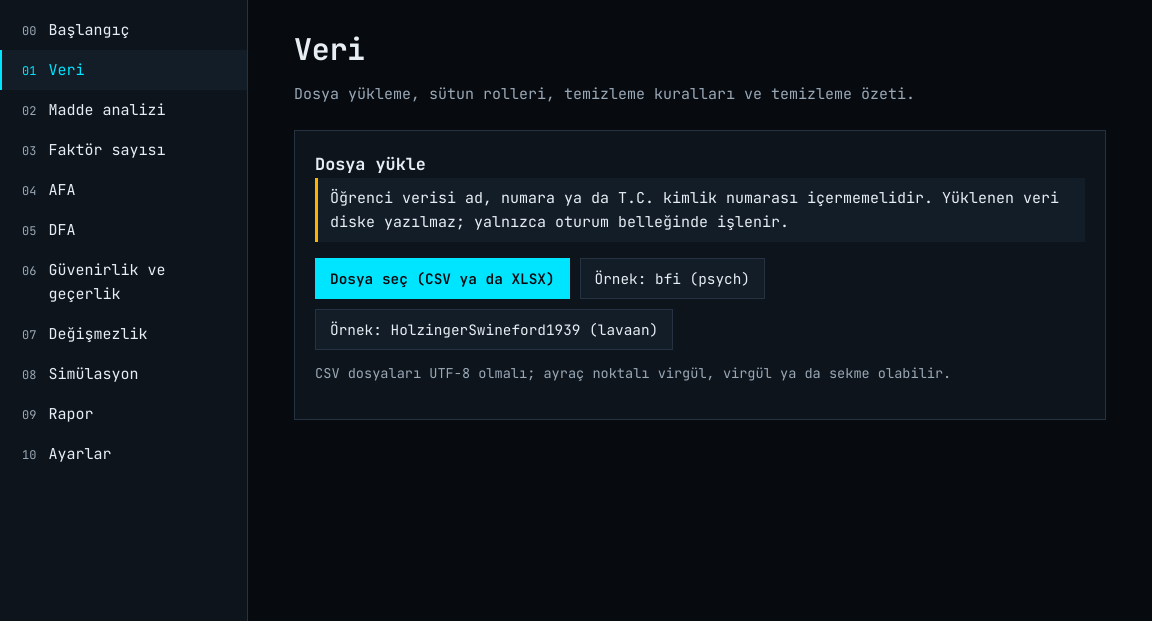
Test case: M5 AFA sayfası › ayarlar sayı olarak gönderilir; yük tablosu R metinlerini gösterir
The width and height of the screenshot is (1152, 621).
Click the button "Örnek: bfi (psych)" at (672, 278), box [580, 258, 765, 299]
(page scrolled)
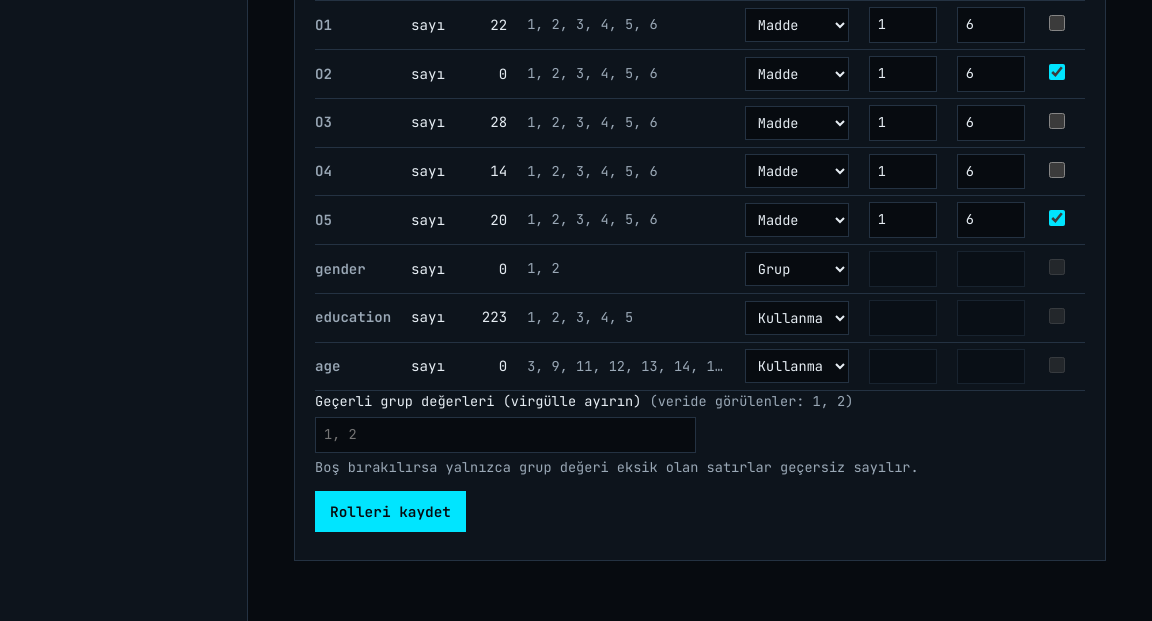
Click the button "Rolleri kaydet" at (391, 511), box [315, 491, 466, 532]
(page scrolled)
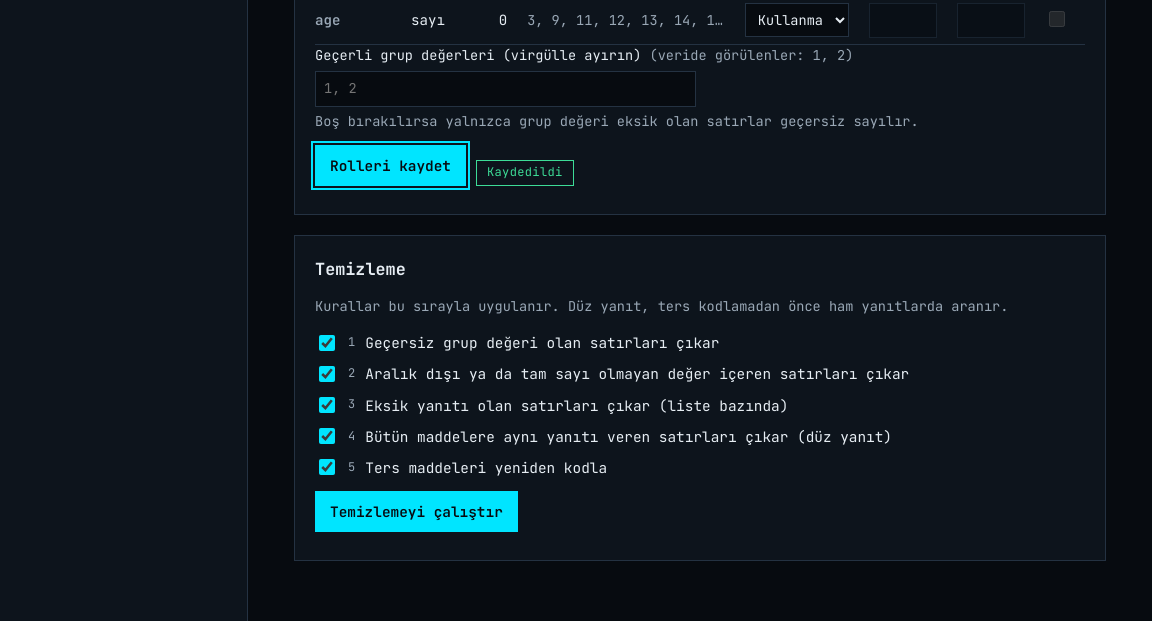
Click the button "Temizlemeyi çalıştır" at (416, 511), box [315, 491, 518, 532]
(page scrolled)
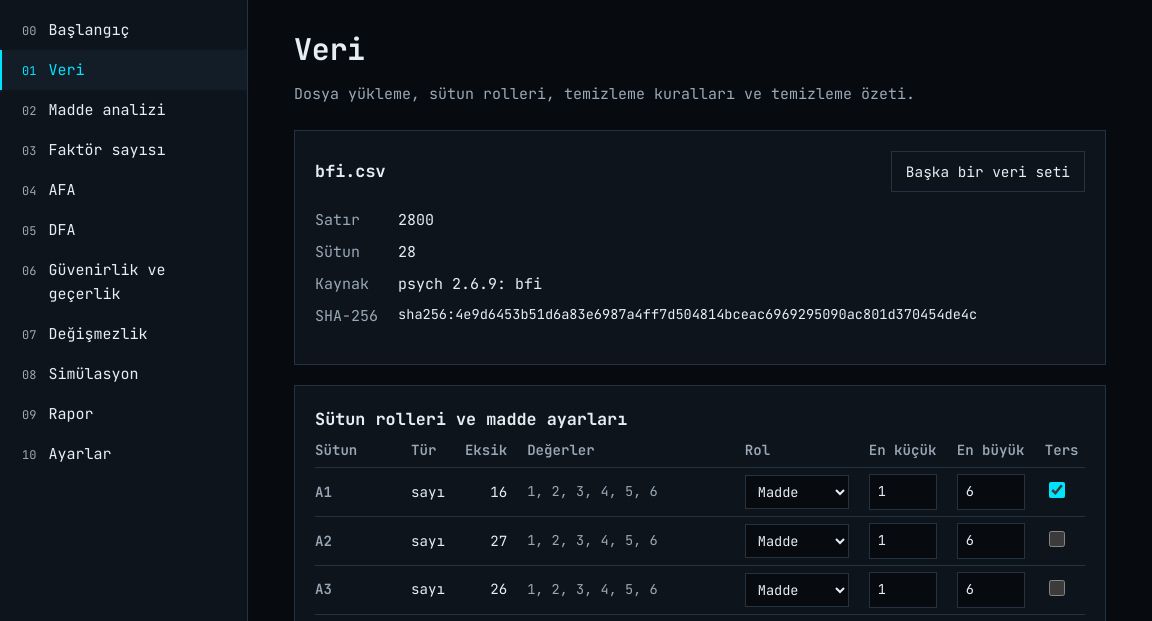
Click the link "04 AFA" at (49, 190), box [22, 180, 75, 200]
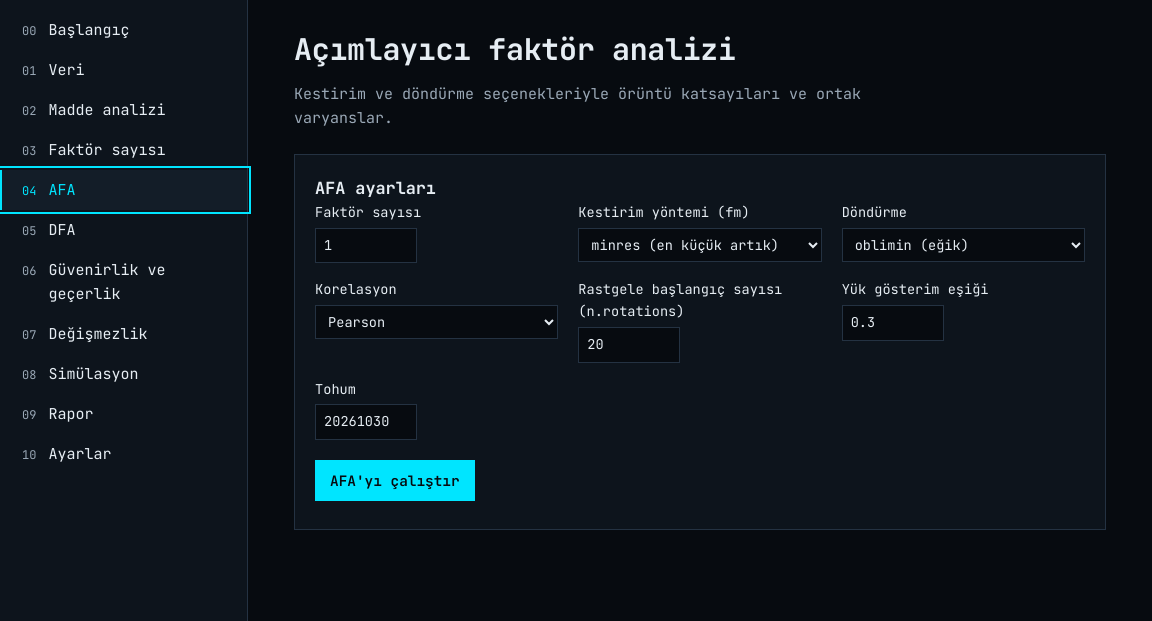
Replace the text in the number field labelled "Faktör sayısı" with "5" at (366, 245), box [315, 228, 417, 263]
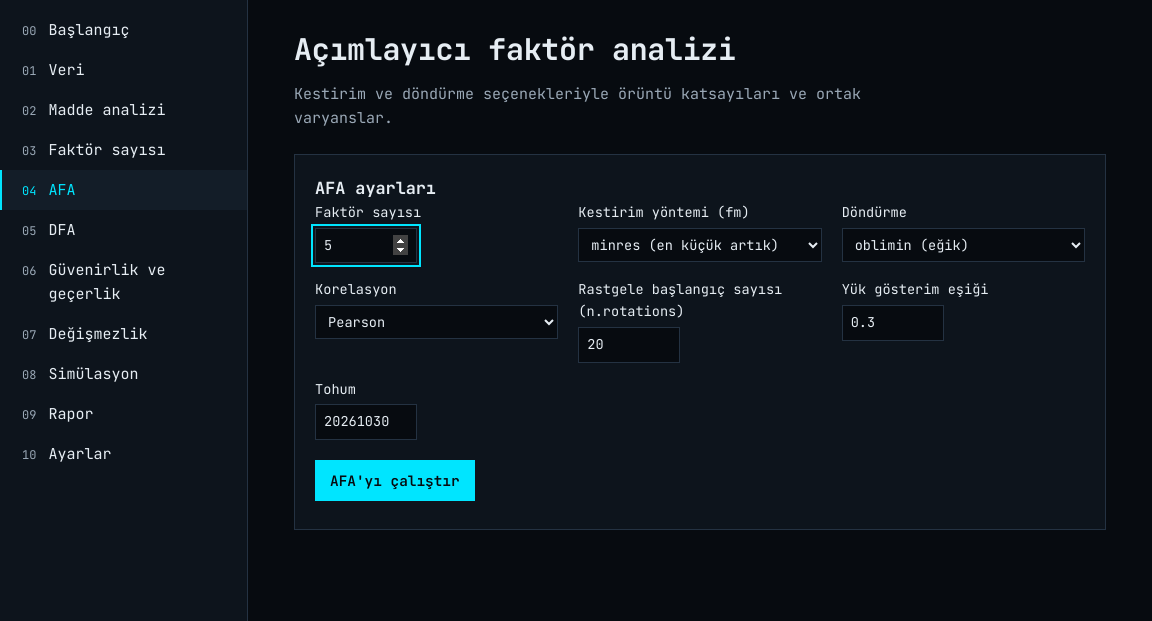
Click the button "AFA'yı çalıştır" at (395, 480), box [315, 460, 475, 501]
(page scrolled)
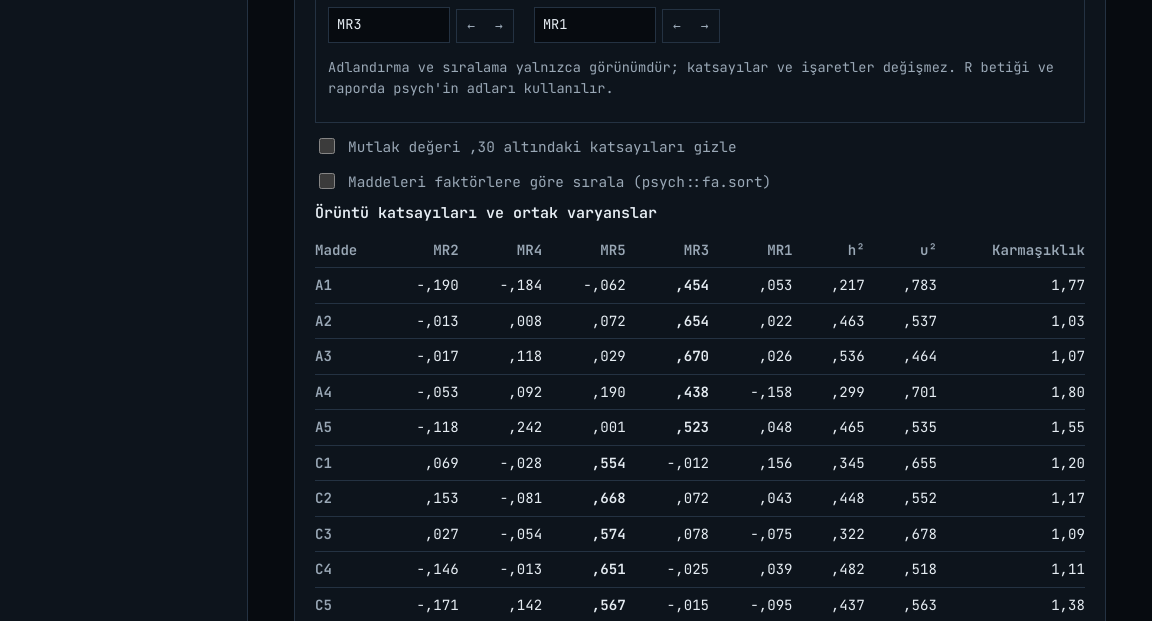
Check: the cell "−,190" is shown, box [385, 268, 469, 303]
